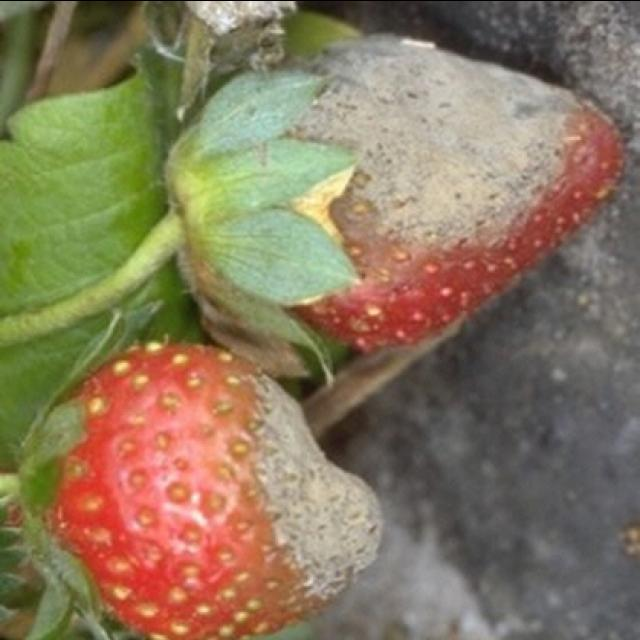Gray Mold: (266, 29, 604, 351), (213, 346, 384, 635)
